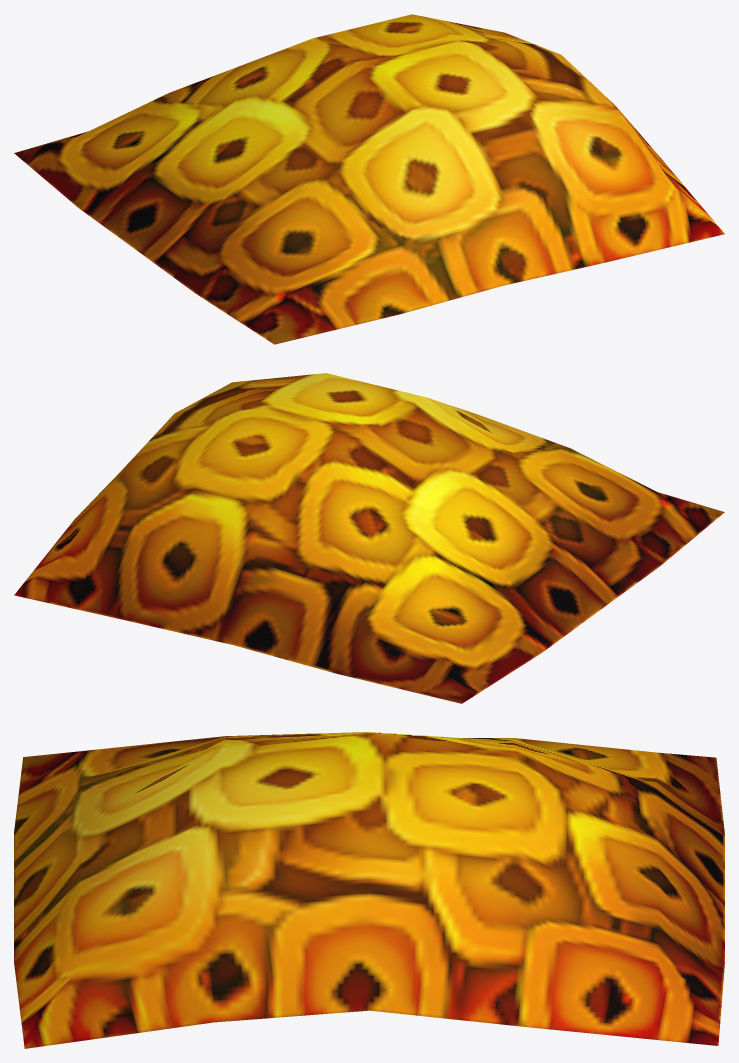
Rendered from Treasury_Full.FBX.
3 views of the same model, one above another, from view 1: azimuth 30°, elevation 25°; view 2: azimuth 150°, elevation 25°; view 3: azimuth 270°, elevation 25° (orthographic). The views are drawn at different scales.
Visible parts, largest first — view 1: Treasury_Full; view 2: Treasury_Full; view 3: Treasury_Full.
Boxes of the visible parts, x1,y1,x2,y2 form: Treasury_Full: (14, 14, 724, 344); Treasury_Full: (14, 373, 724, 703); Treasury_Full: (14, 732, 724, 1048).
Size of the model in its own units: 111 by 29.08 by 111.
